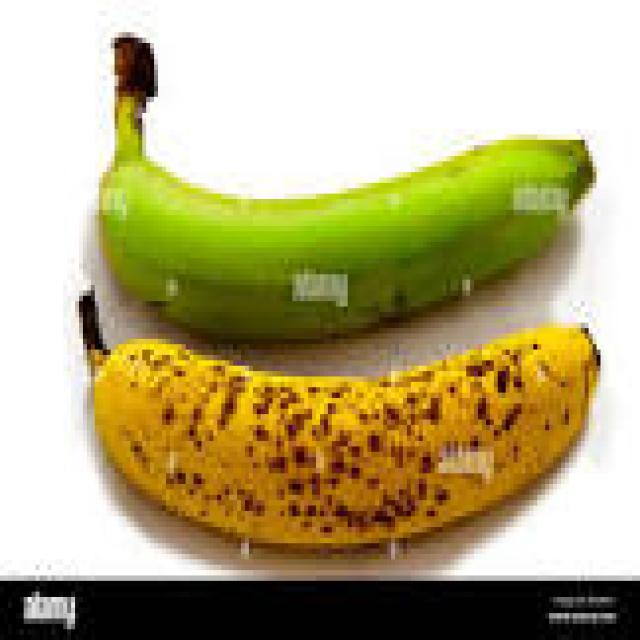banana: (99, 38, 592, 338), (83, 296, 600, 548)
